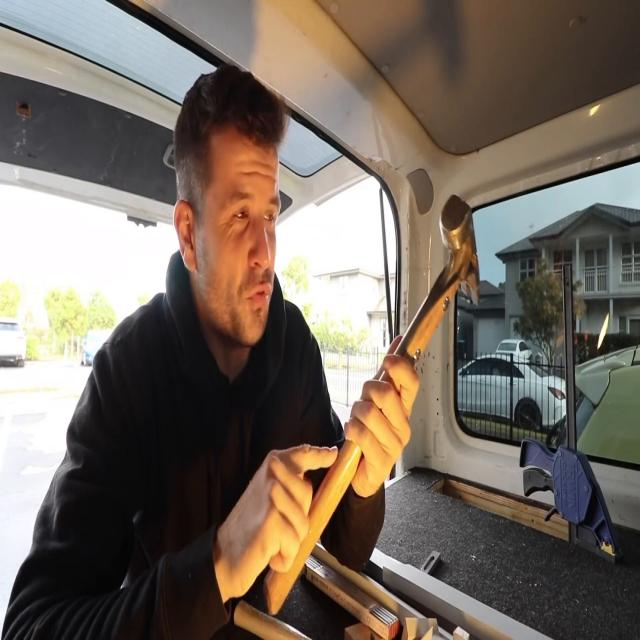hammer: (266, 196, 480, 616)
